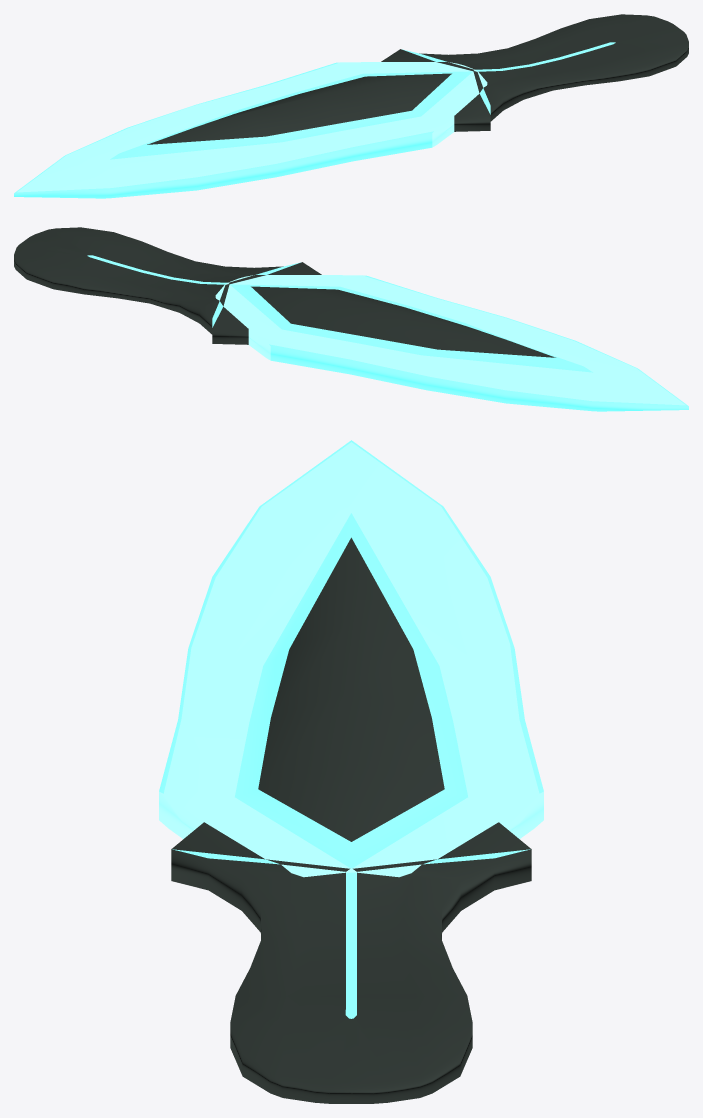
Rendered from ThiccKnife.fbx.
3 renders of one model, top to bottom at view 1: azimuth 30°, elevation 25°; view 2: azimuth 150°, elevation 25°; view 3: azimuth 270°, elevation 25°, orthographic. The views are drawn at different scales.
Parts seen in each view (by area): view 1: Knife; view 2: Knife; view 3: Knife.
Boxes of the visible parts, bbox=[...] form: Knife: bbox=[14, 14, 688, 198]; Knife: bbox=[14, 227, 688, 411]; Knife: bbox=[159, 440, 543, 1103].
Bounding box in the file's own units: 7.51 × 0.5445 × 1.88.
